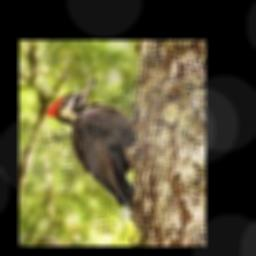Woodpecker: (47, 78, 137, 210)
